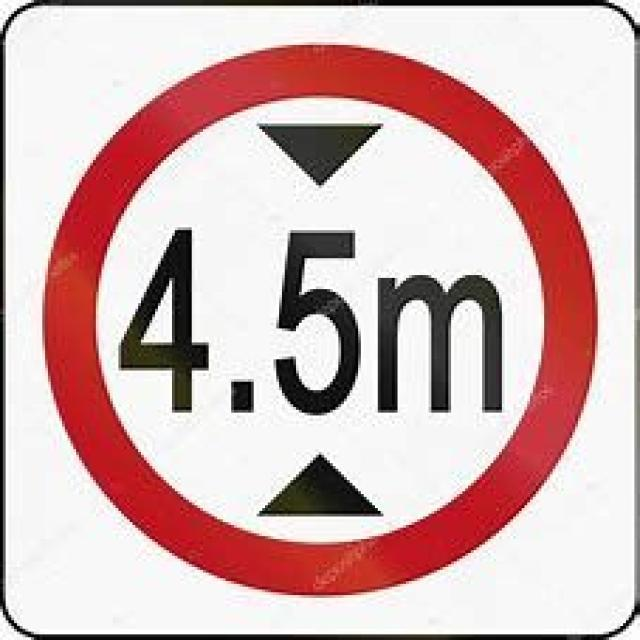height limit: (39, 36, 604, 605)
